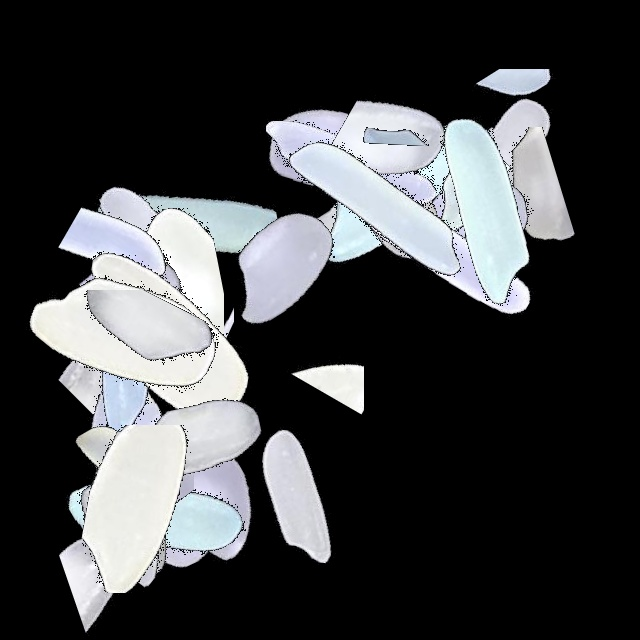Broken: (47, 425, 297, 593), (273, 58, 523, 220), (287, 81, 537, 237), (0, 290, 250, 439), (327, 148, 577, 295), (86, 175, 224, 425), (2, 195, 252, 330), (361, 42, 493, 292), (368, 127, 618, 258), (8, 513, 258, 640), (33, 390, 156, 640), (190, 140, 440, 253), (0, 312, 250, 424), (330, 136, 580, 248), (85, 337, 194, 587), (126, 182, 234, 432), (389, 69, 639, 173), (7, 207, 257, 306), (88, 357, 338, 452), (301, 54, 551, 146), (285, 222, 364, 472), (83, 361, 160, 611)
Full: (32, 328, 282, 578), (207, 24, 457, 274), (68, 390, 318, 640), (88, 382, 338, 632), (64, 99, 314, 349), (29, 184, 279, 434), (383, 30, 633, 280), (0, 262, 250, 512), (0, 306, 250, 556), (285, 71, 535, 321), (174, 369, 424, 619), (32, 390, 282, 640), (278, 68, 528, 318), (349, 95, 599, 345), (0, 240, 250, 490), (267, 70, 517, 320), (30, 116, 280, 366), (0, 390, 250, 640), (0, 180, 250, 430), (14, 390, 264, 640), (313, 122, 563, 372), (227, 36, 477, 286), (41, 210, 291, 460), (364, 84, 614, 334), (247, 85, 497, 335), (155, 142, 405, 392), (71, 311, 321, 561), (0, 210, 250, 460)
